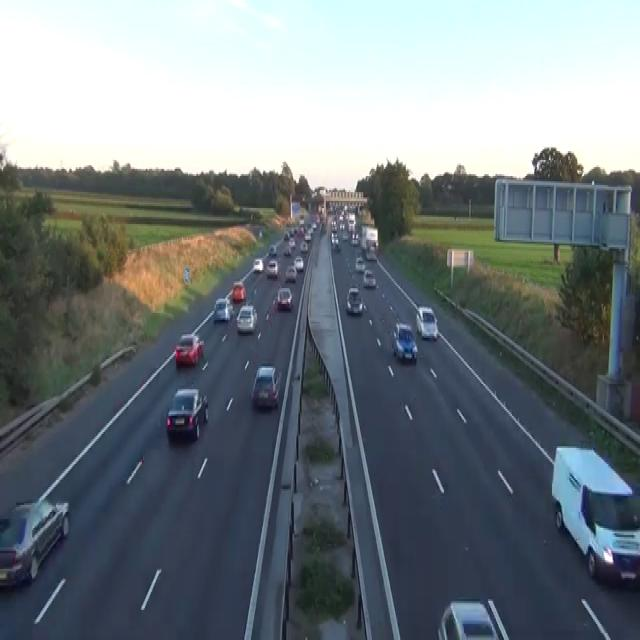Car: (0, 498, 69, 588), (437, 598, 510, 638), (165, 387, 208, 441), (251, 364, 281, 409), (174, 332, 204, 367), (392, 322, 417, 362), (487, 598, 510, 638), (415, 306, 438, 340), (236, 304, 257, 332), (345, 286, 363, 315), (213, 297, 232, 322), (276, 286, 293, 311), (232, 281, 246, 302), (365, 240, 377, 260), (266, 258, 278, 277), (363, 268, 375, 286), (285, 265, 297, 283), (293, 254, 304, 272), (225, 294, 234, 316), (330, 233, 340, 251), (355, 256, 365, 272), (253, 258, 263, 272), (350, 231, 359, 245), (268, 244, 276, 256), (300, 240, 308, 252), (304, 229, 311, 242), (272, 292, 277, 310), (283, 245, 291, 256), (226, 290, 233, 302), (288, 238, 295, 249), (341, 231, 348, 240), (283, 231, 289, 240), (299, 217, 304, 226), (258, 228, 262, 238), (312, 222, 316, 230)
Truck: (551, 444, 639, 588), (360, 226, 378, 260)
